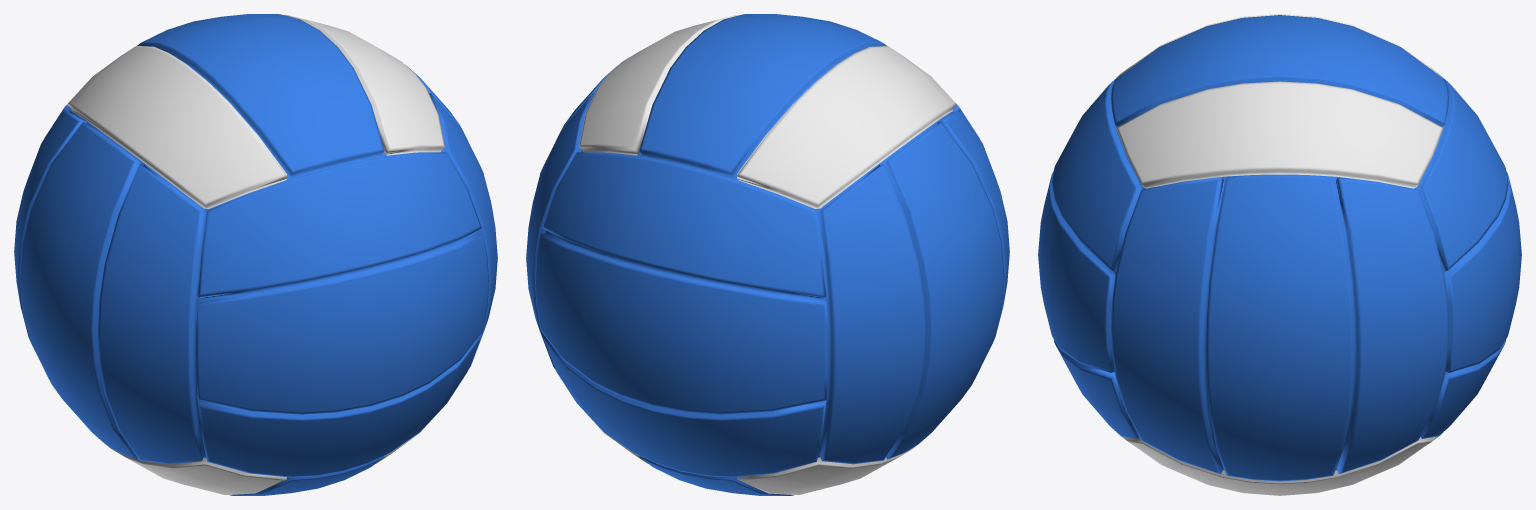
Rendered from VolleyBall.fbx.
The picture shows the model from 3 angles, left to right: view 1: azimuth 30°, elevation 25°; view 2: azimuth 150°, elevation 25°; view 3: azimuth 270°, elevation 25°; orthographic projection.
Visible parts, largest first — view 1: Cube.001; view 2: Cube.001; view 3: Cube.001.
Boxes of the visible parts, x1,y1,x2,y2 form: Cube.001: (14,14,497,495); Cube.001: (526,14,1009,495); Cube.001: (1038,14,1521,495).
Bounding box in the file's own units: 9897 × 9897 × 9897.
